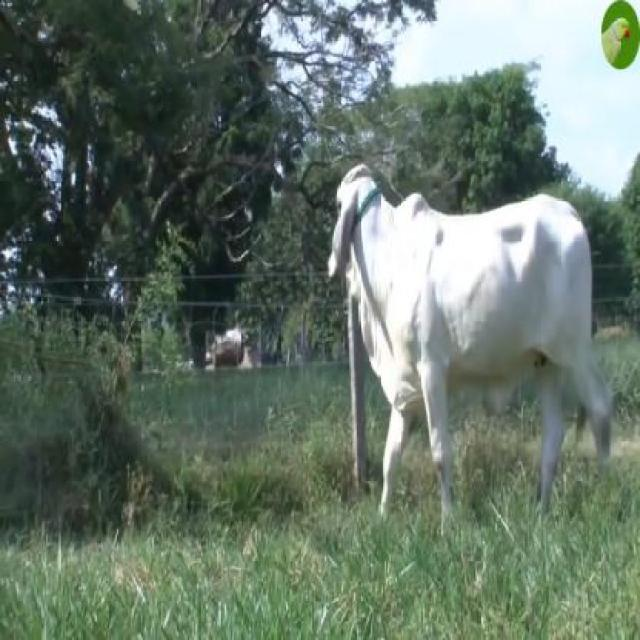Cow: (328, 162, 609, 549)
